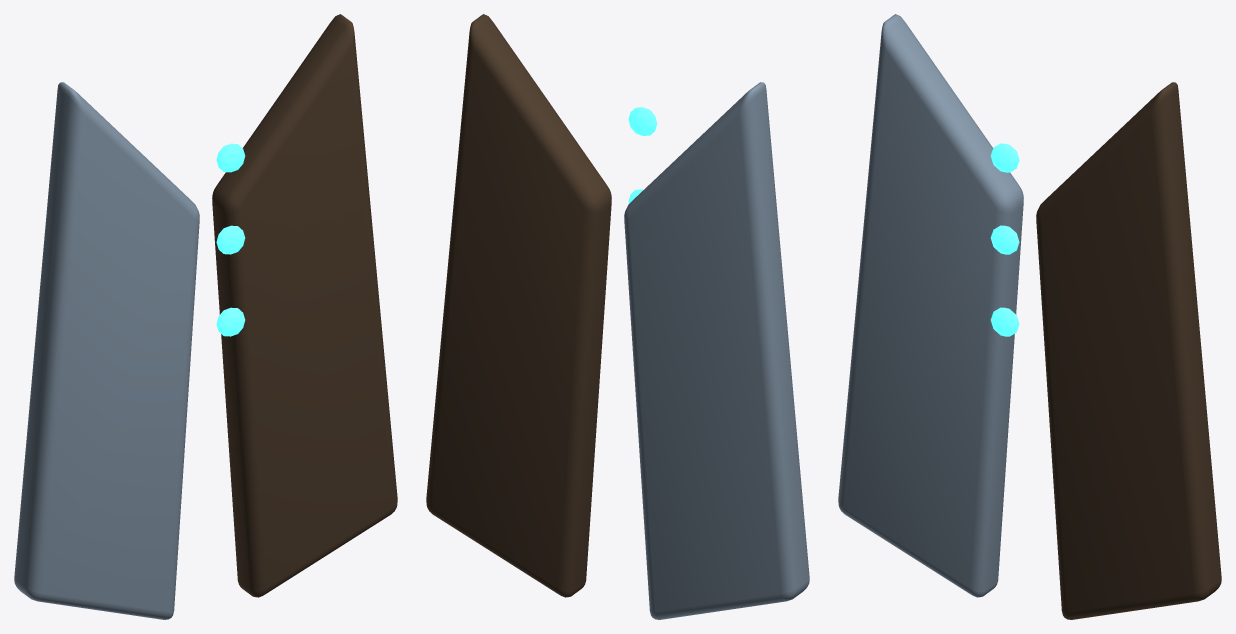
File: cloak_v3.glb
3 renders of one model, left to right at view 1: azimuth 30°, elevation 25°; view 2: azimuth 150°, elevation 25°; view 3: azimuth 330°, elevation 25°, orthographic.
Parts seen in each view (by area): view 1: COAT_RIGHT_SECONDARY, COAT_LEFT_PRIMARY, COAT_BUTTON_EMISSIVE, COAT_BUTTON_EMISSIVE.002, COAT_BUTTON_EMISSIVE.001; view 2: COAT_RIGHT_SECONDARY, COAT_LEFT_PRIMARY, COAT_BUTTON_EMISSIVE; view 3: COAT_LEFT_PRIMARY, COAT_RIGHT_SECONDARY, COAT_BUTTON_EMISSIVE, COAT_BUTTON_EMISSIVE.001, COAT_BUTTON_EMISSIVE.002.
Boxes of the visible parts, <box> form: COAT_RIGHT_SECONDARY: <box>212,14,397,597</box>; COAT_LEFT_PRIMARY: <box>14,82,199,619</box>; COAT_BUTTON_EMISSIVE: <box>216,143,245,172</box>; COAT_BUTTON_EMISSIVE.002: <box>216,307,245,336</box>; COAT_BUTTON_EMISSIVE.001: <box>216,225,245,254</box>; COAT_RIGHT_SECONDARY: <box>426,14,611,597</box>; COAT_LEFT_PRIMARY: <box>624,82,809,619</box>; COAT_BUTTON_EMISSIVE: <box>628,107,657,135</box>; COAT_LEFT_PRIMARY: <box>838,14,1023,597</box>; COAT_RIGHT_SECONDARY: <box>1036,82,1221,619</box>; COAT_BUTTON_EMISSIVE: <box>990,143,1019,172</box>; COAT_BUTTON_EMISSIVE.001: <box>990,225,1019,254</box>; COAT_BUTTON_EMISSIVE.002: <box>990,307,1019,336</box>.
Size of the model in its own units: 1.89 by 2.69 by 0.36.
